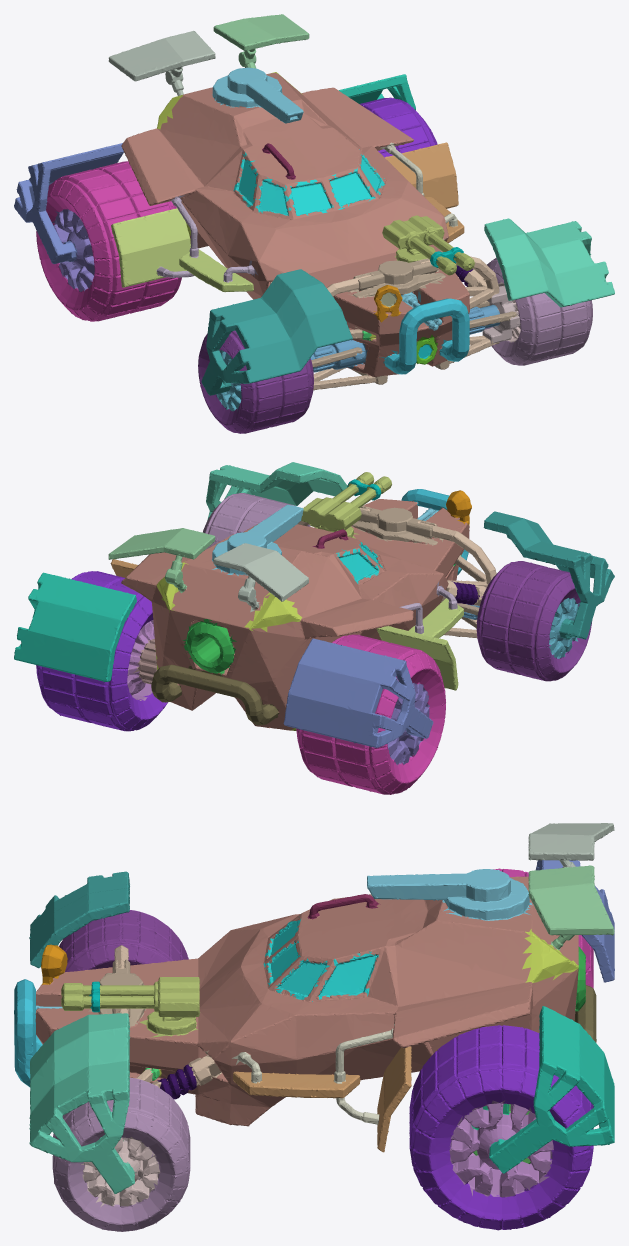
3 views of the same model, one above another, from view 1: azimuth 30°, elevation 25°; view 2: azimuth 150°, elevation 25°; view 3: azimuth 270°, elevation 25° (orthographic). The views are drawn at different scales.
Visible parts, largest first — view 1: world; view 2: world; view 3: world.
Part boxes in pixels (bbox=[...]): world: bbox=[14, 14, 614, 433]; world: bbox=[14, 462, 614, 794]; world: bbox=[14, 823, 614, 1231].
Bounding box in the file's own units: 1.71 × 0.9615 × 1.91.
